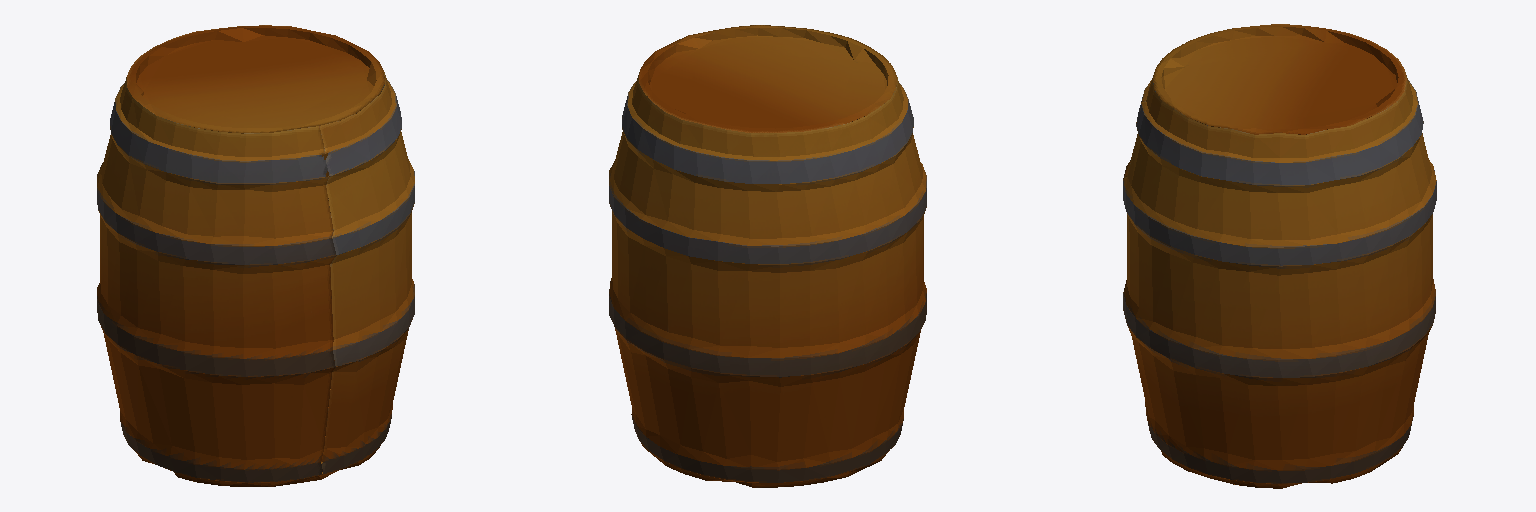
The picture shows the model from 3 angles: view 1: azimuth 30°, elevation 25°; view 2: azimuth 150°, elevation 25°; view 3: azimuth 270°, elevation 25°; orthographic projection.
Visible parts, largest first — view 1: Cylinder; view 2: Cylinder; view 3: Cylinder.
Part boxes in pixels (left/top/right/bottom): Cylinder: left=97, top=25, right=414, bottom=486; Cylinder: left=609, top=25, right=926, bottom=487; Cylinder: left=1123, top=24, right=1436, bottom=488.
Size of the model in its own units: 2.12 by 2.59 by 2.07.
Materials: 1 (1 with a texture image).